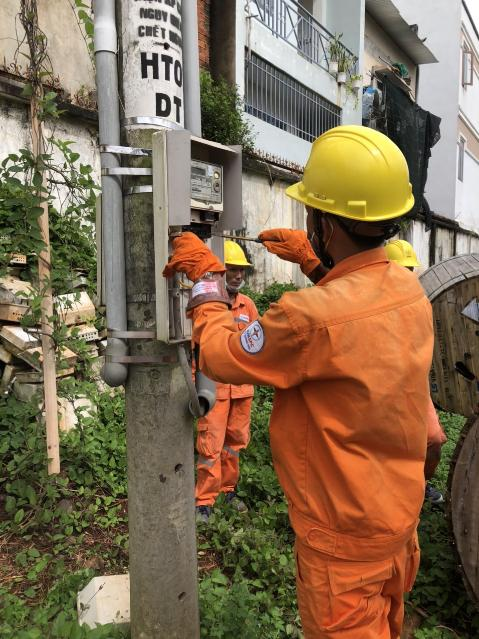gloves: (156, 227, 225, 301), (256, 223, 325, 276)
helmet: (276, 122, 436, 227), (380, 235, 435, 276), (219, 239, 267, 284)
shoes: (223, 484, 264, 522), (192, 499, 226, 532), (425, 483, 452, 519)
